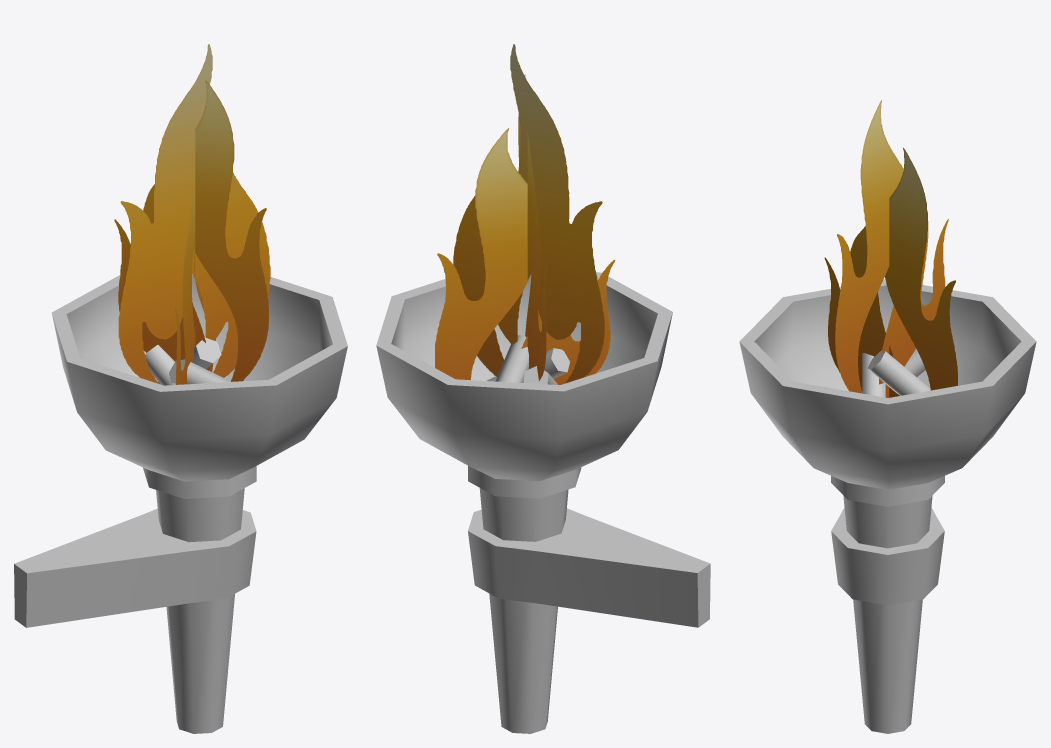
Rendered from firewand.fbx.
3 renders of one model, left to right at view 1: azimuth 30°, elevation 25°; view 2: azimuth 150°, elevation 25°; view 3: azimuth 270°, elevation 25°, orthographic. The views are drawn at different scales.
Visible parts, largest first — view 1: Torch, Flame; view 2: Torch, Flame; view 3: Torch, Flame.
Part boxes in pixels (x1,y1,x2,y2): Torch: [14, 274, 347, 733]; Flame: [114, 44, 270, 384]; Torch: [376, 272, 710, 733]; Flame: [435, 44, 615, 384]; Torch: [739, 279, 1036, 733]; Flame: [824, 100, 957, 397].
Bounding box in the file's own units: 10.46 × 22.11 × 8.91.
